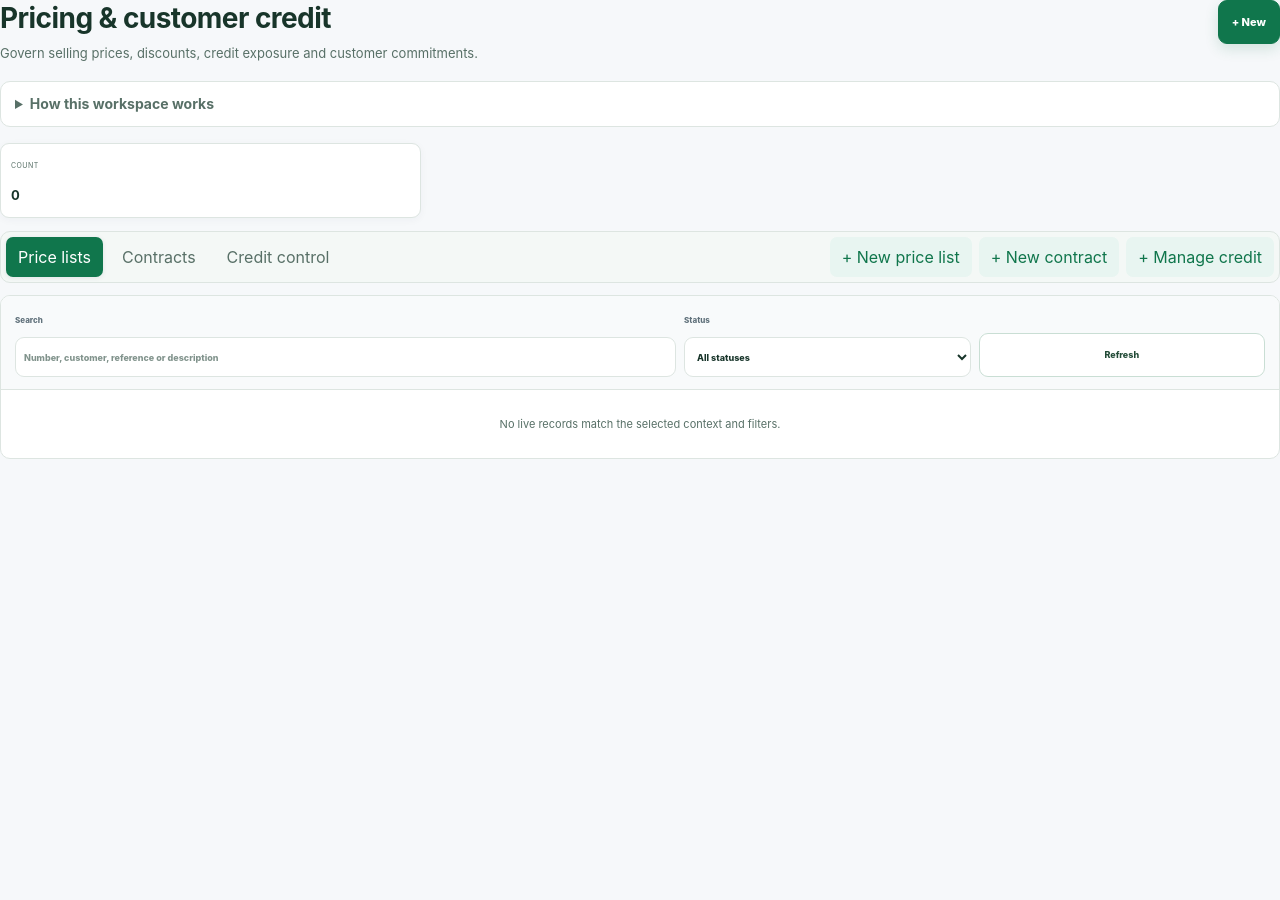
P2 commercial and finance workspaces › opens the credit form from the Credit control tab header action
Click the button "Credit control" at (278,257), box [215, 237, 341, 277]
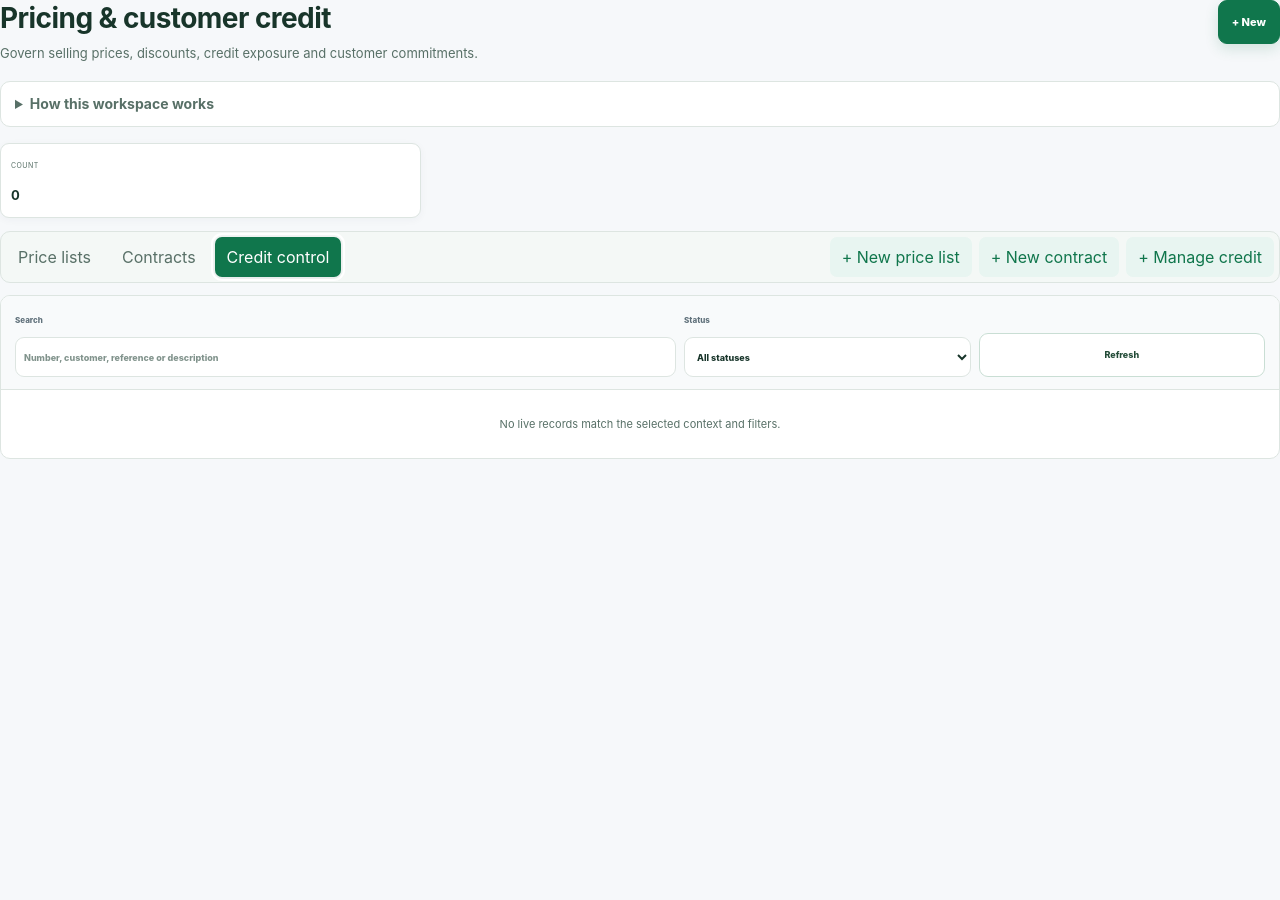
Click the button "+ New" at (1249,22), box [1218, 0, 1279, 44]
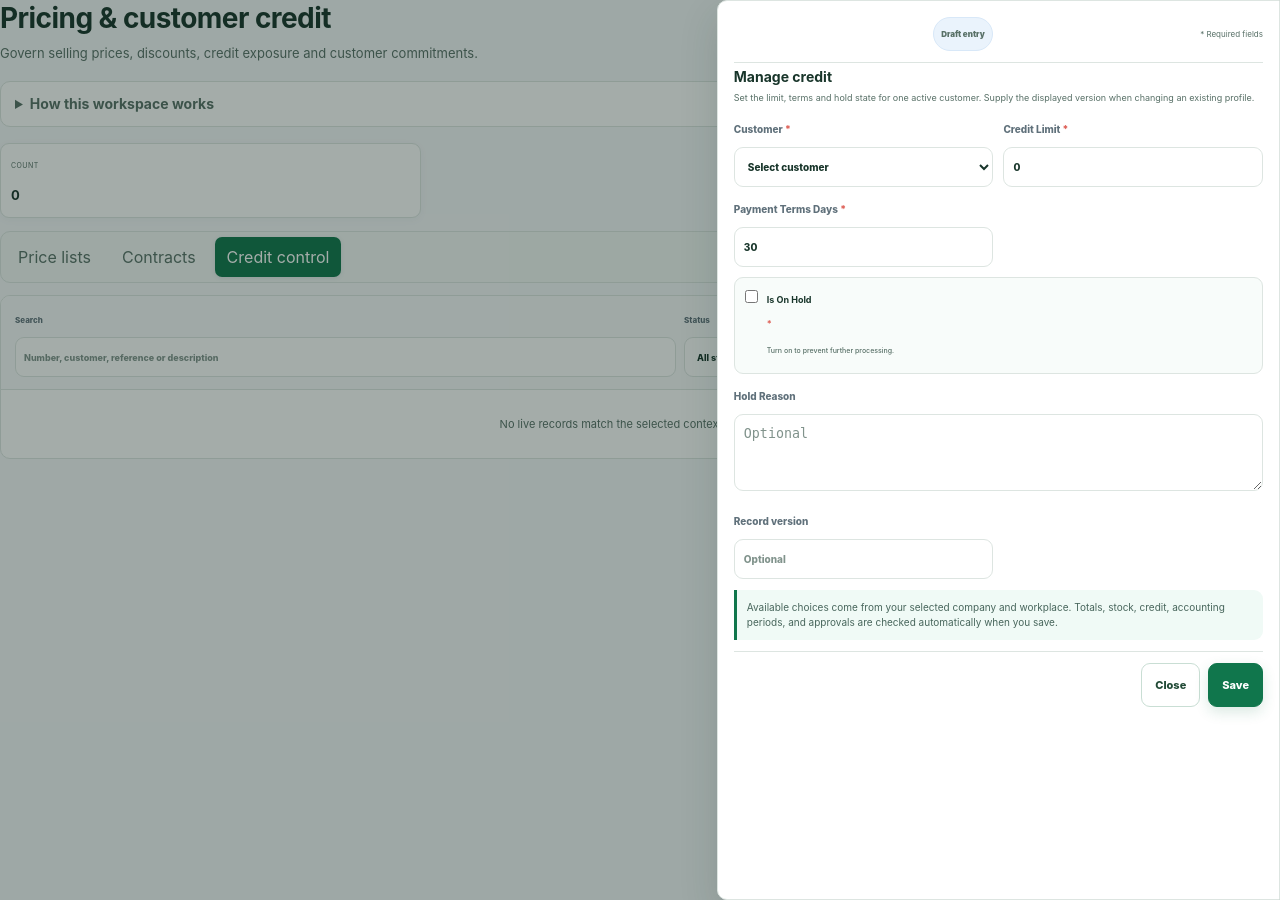
Result: the heading "Manage credit" is shown at [734, 68, 832, 85]
Result: the number field labelled "Credit Limit" is shown at [1003, 146, 1263, 186]
Result: the dropdown labelled "Customer" shows "Select customer" at [734, 146, 993, 186]
